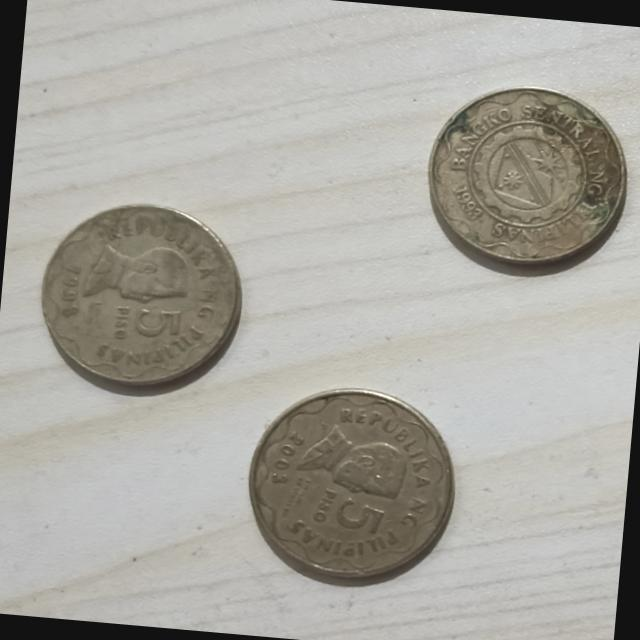5_peso: (249, 389, 452, 578), (41, 205, 240, 384), (428, 87, 626, 261)
